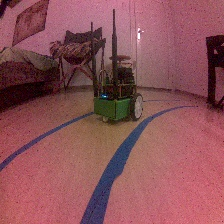rob: (92, 66, 143, 122)
